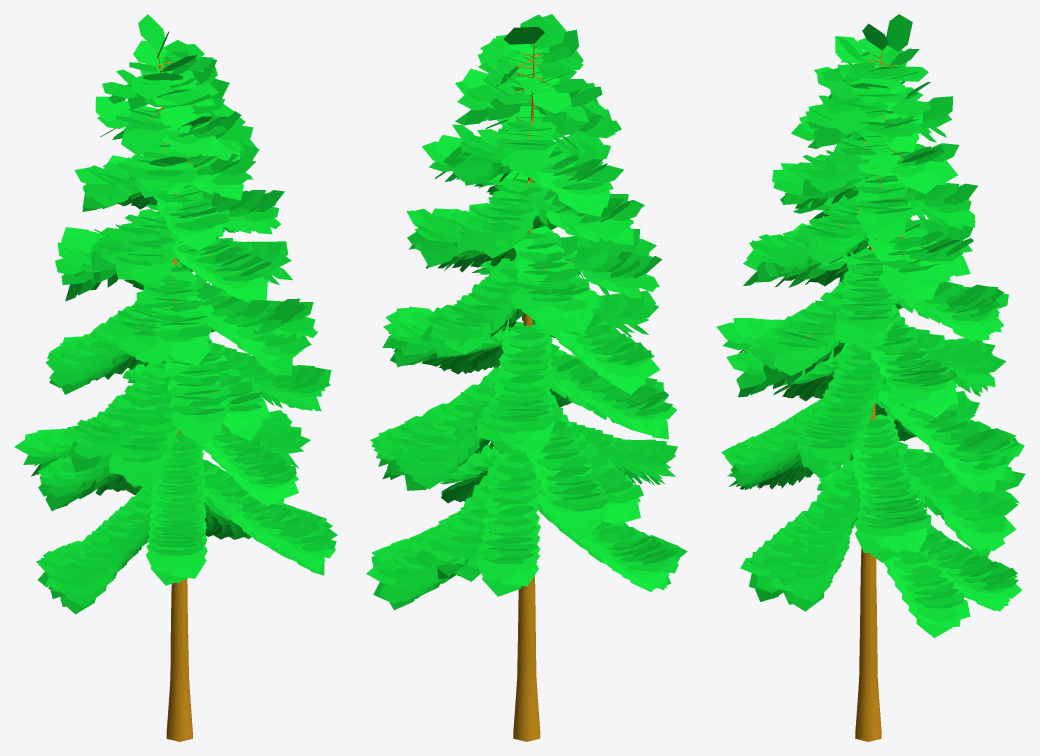
The model's file is sosna.fbx.
3 views of the same model, side by side, from view 1: azimuth 30°, elevation 25°; view 2: azimuth 150°, elevation 25°; view 3: azimuth 270°, elevation 25° (orthographic). The views are drawn at different scales.
Parts seen in each view (by area): view 1: leaves.001, tree.001; view 2: leaves.001, tree.001; view 3: leaves.001, tree.001.
Part boxes in pixels (box(x1,y1,x2,y2)): leaves.001: box(14, 14, 337, 614); tree.001: box(123, 51, 212, 741); leaves.001: box(366, 14, 687, 610); tree.001: box(462, 44, 610, 741); leaves.001: box(716, 14, 1025, 637); tree.001: box(809, 50, 924, 741).
Bounding box in the file's own units: 103 × 101 × 256.
